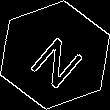N_NE: (22, 23, 88, 87)
